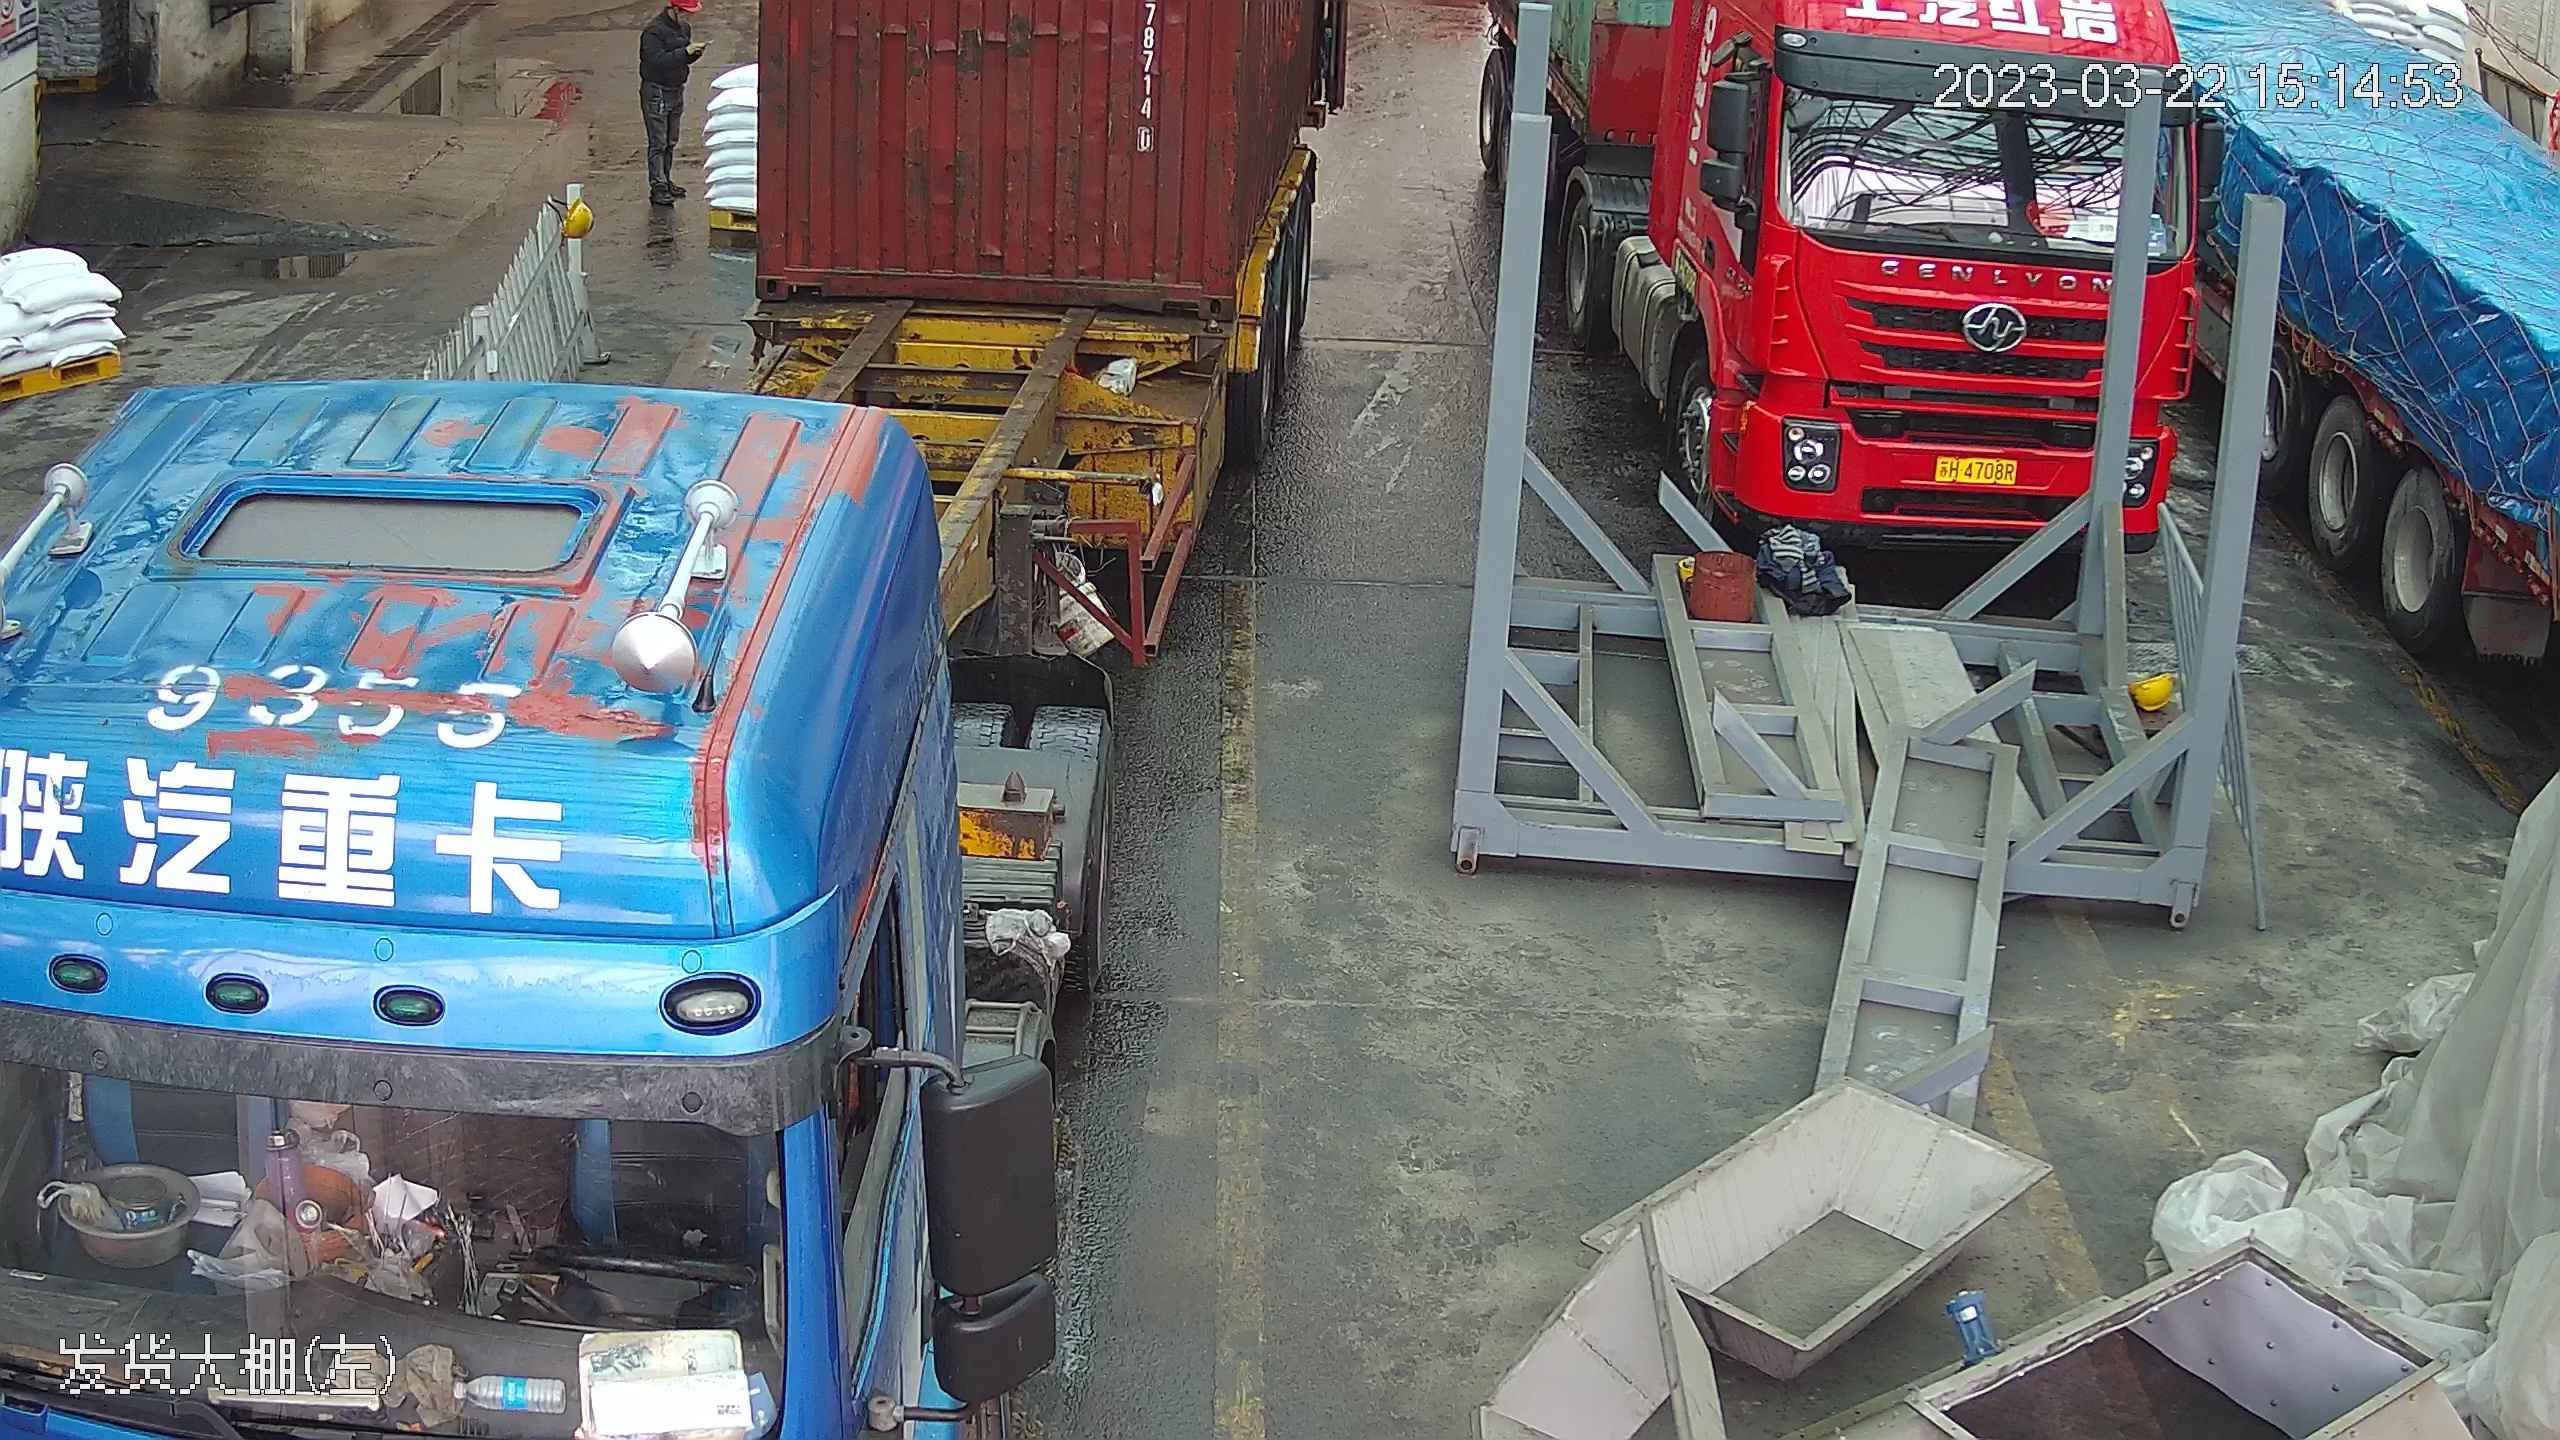head: (640, 1, 697, 57)
helmet: (559, 195, 593, 234), (657, 1, 696, 20)
people: (631, 1, 703, 226)
truck: (1, 1, 1356, 1421), (1518, 1, 2215, 601), (2205, 34, 2559, 751)
